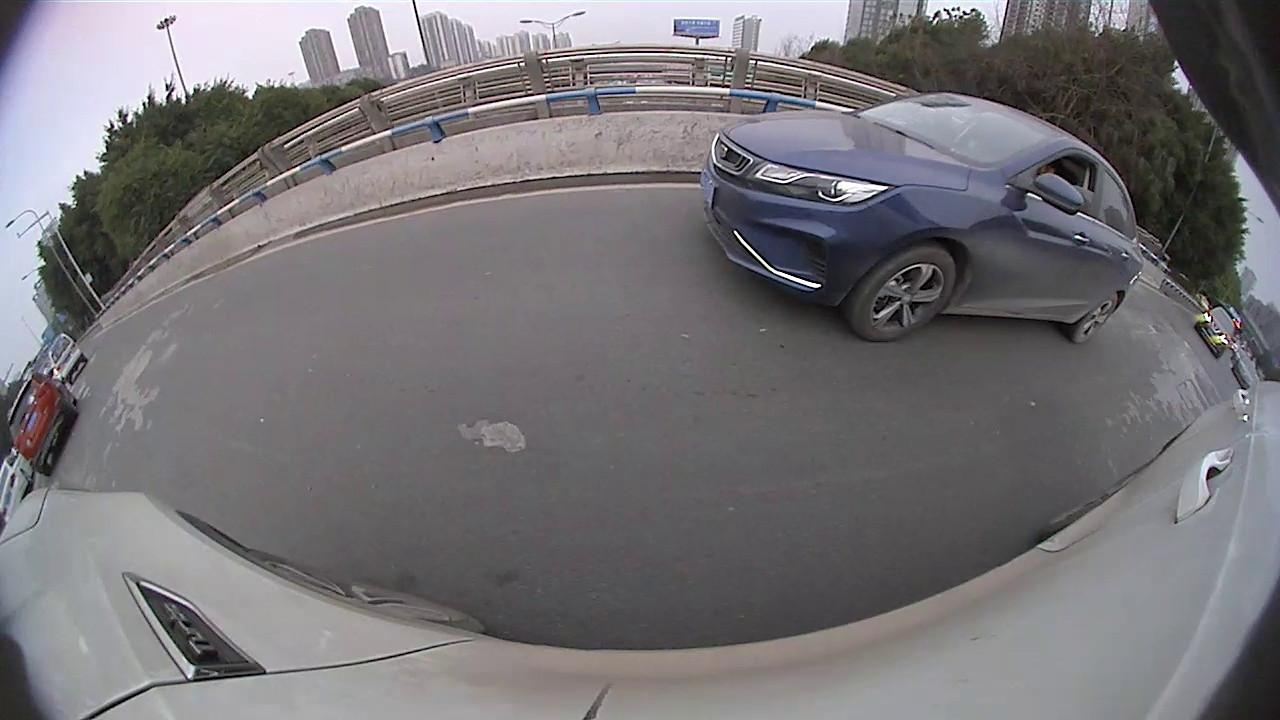car: (704, 93, 1141, 346), (5, 371, 80, 474), (1194, 305, 1237, 359), (45, 332, 87, 376)
front: (837, 243, 961, 341)
rear: (1064, 291, 1123, 345)
